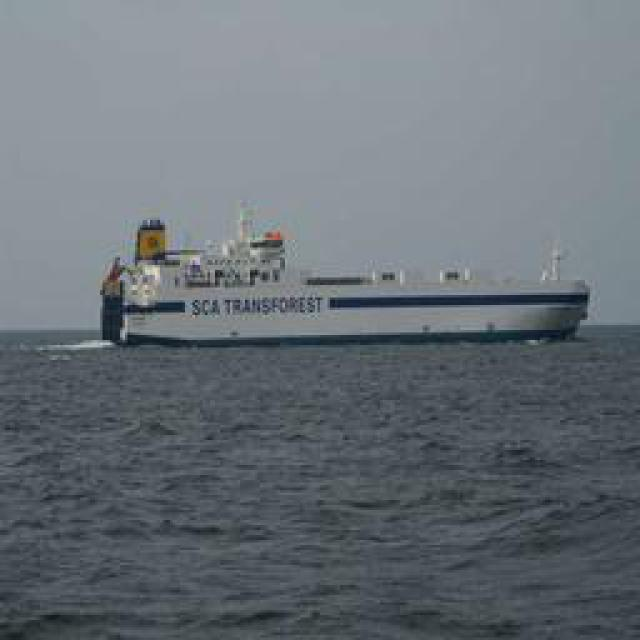Ship: (99, 215, 589, 350)
